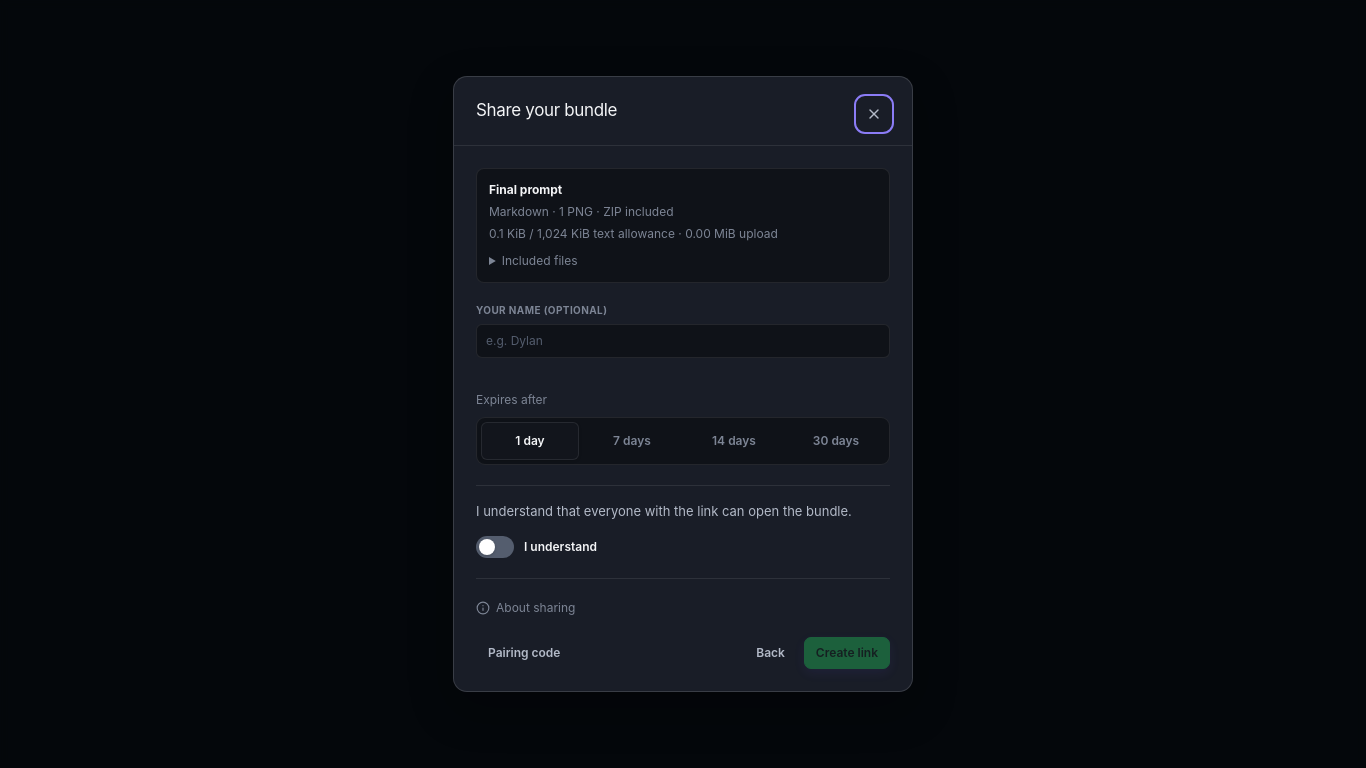
Test: HostedShareDialog › locks the form while saving the name and honours cancellation (true)
The image size is (1366, 768).
Type "Dylan" into the field labelled "Your name (optional)" at (683, 341), box [476,324,890,358]
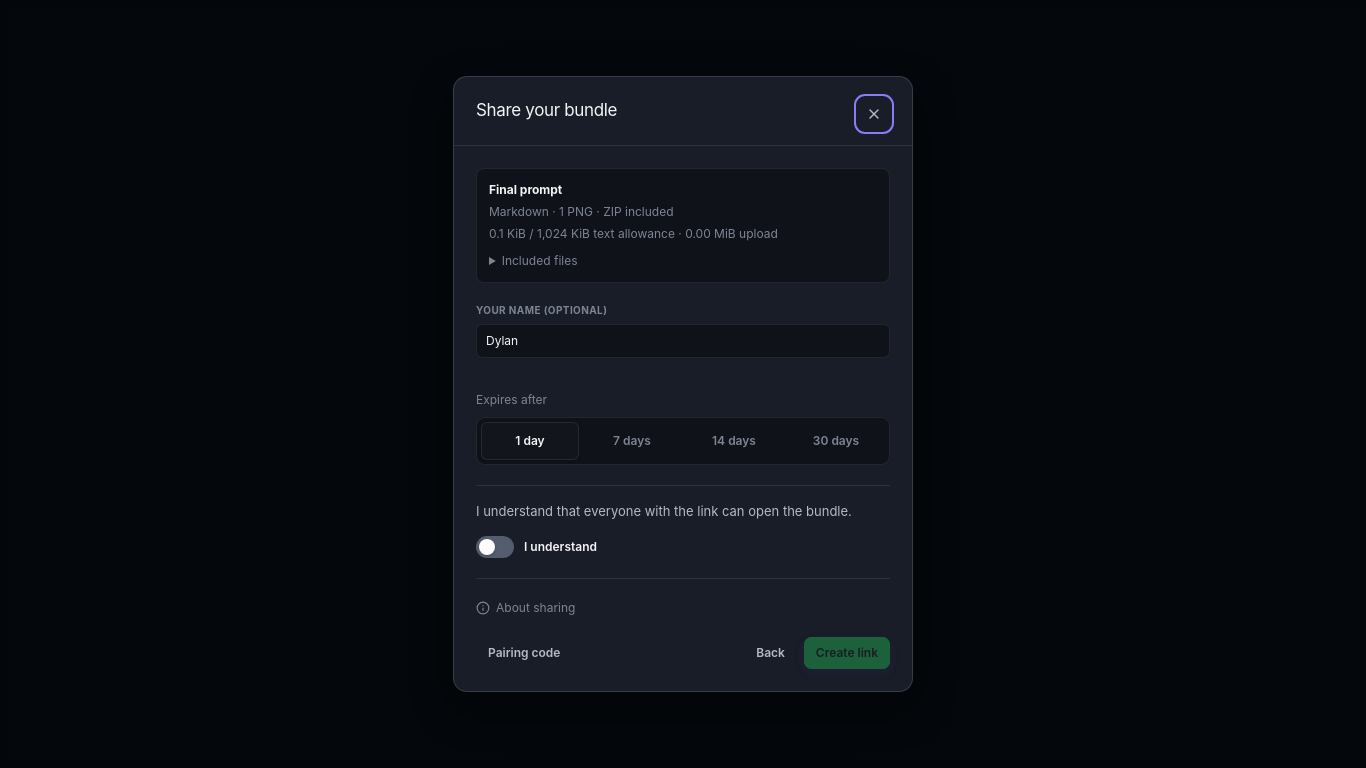
Click the switch labelled "I understand" at (536, 547), box [476,532,597,562]
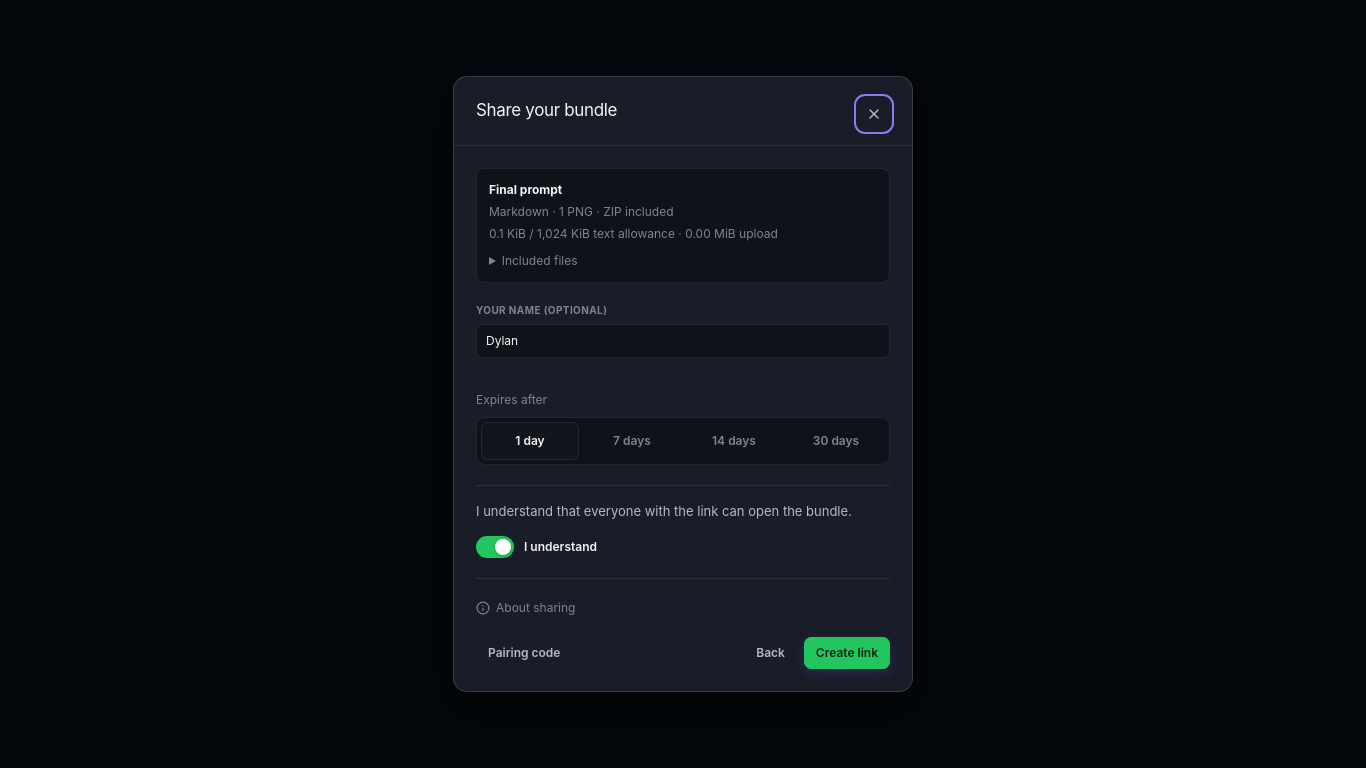
Click the button "Create link" at (847, 653), box [804,637,890,669]
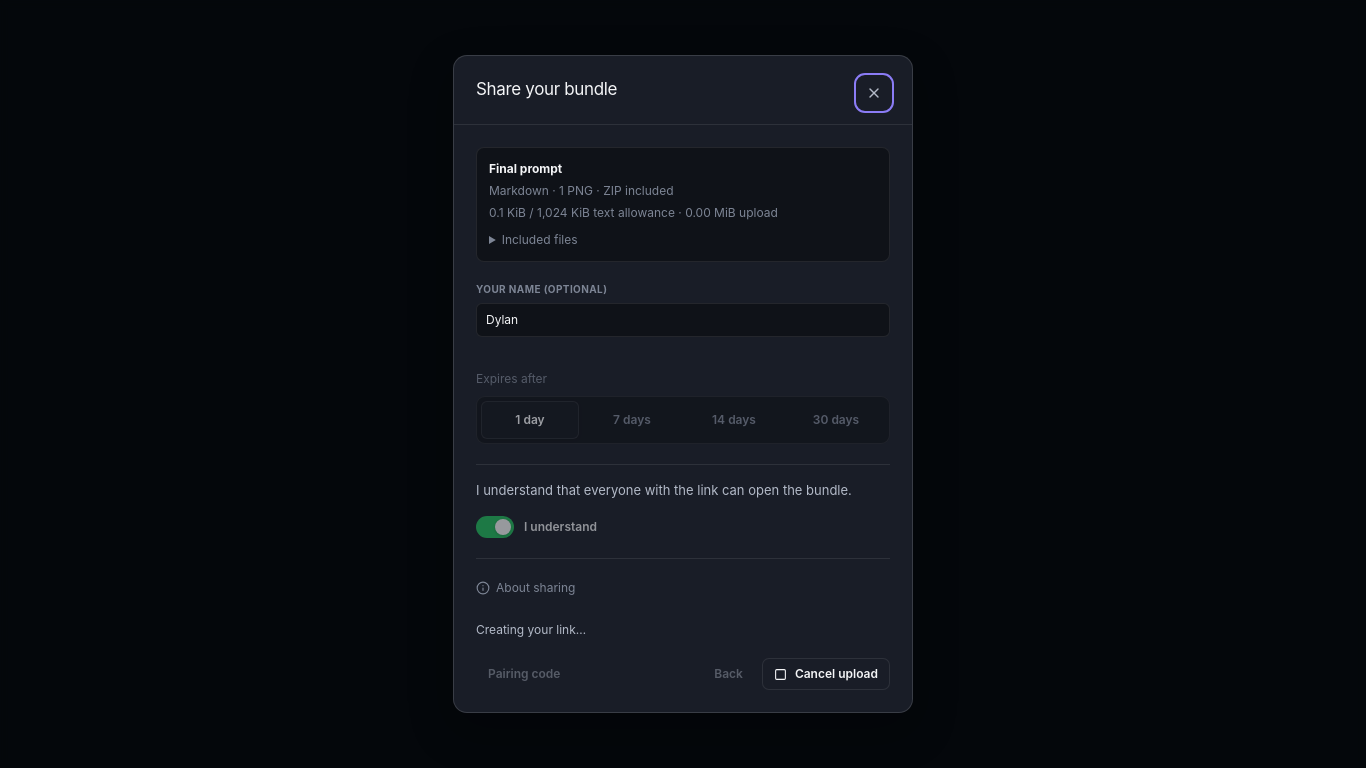
expect the switch labelled "I understand" is disabled: met, box [476,512,597,542]
expect the button "Back" is disabled: met, box [702,658,755,690]
expect the button "Pairing code" is disabled: met, box [476,658,572,690]
Click the button "Cancel upload" at (826, 674), box [762,658,890,690]
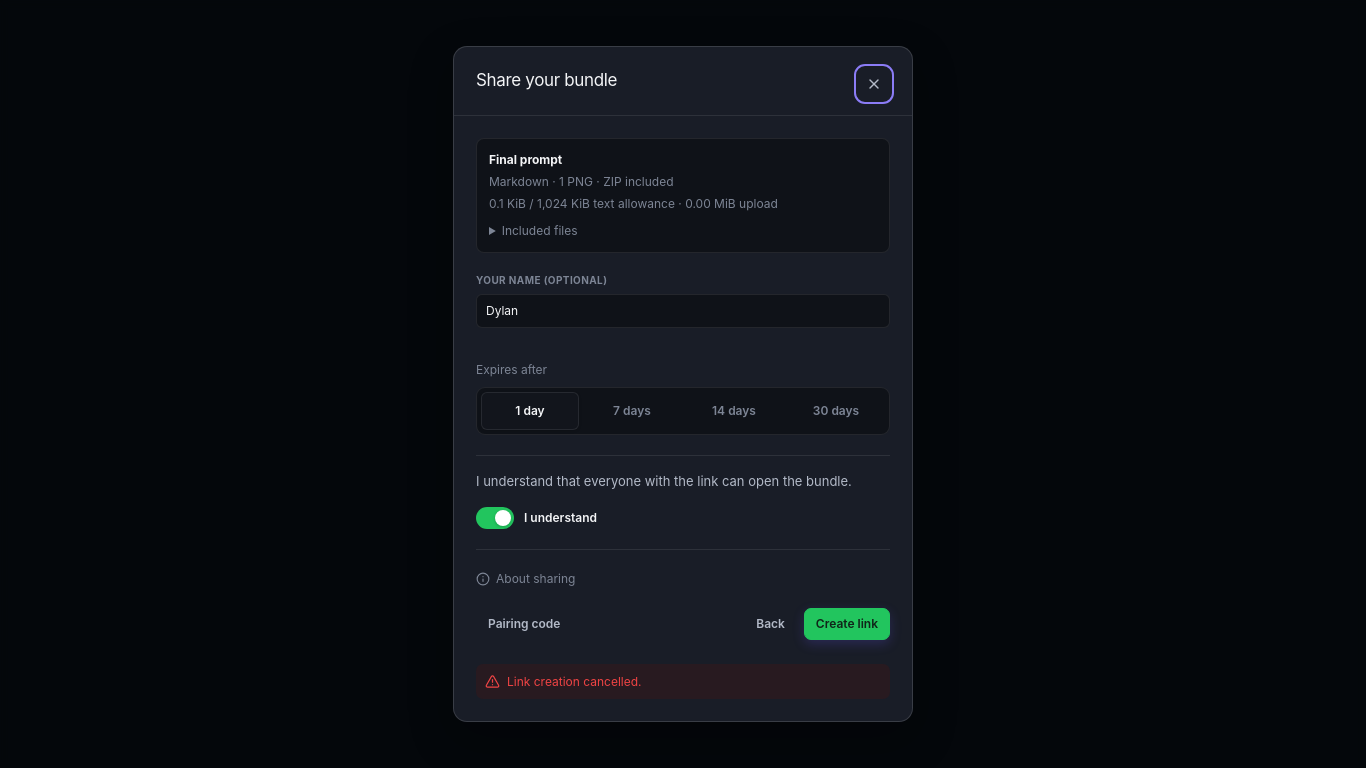
expect the text "Link creation cancelled." is shown: met, box [476,664,890,699]
